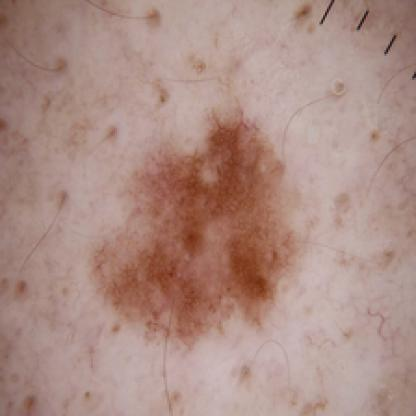benign: (87, 113, 303, 346)
